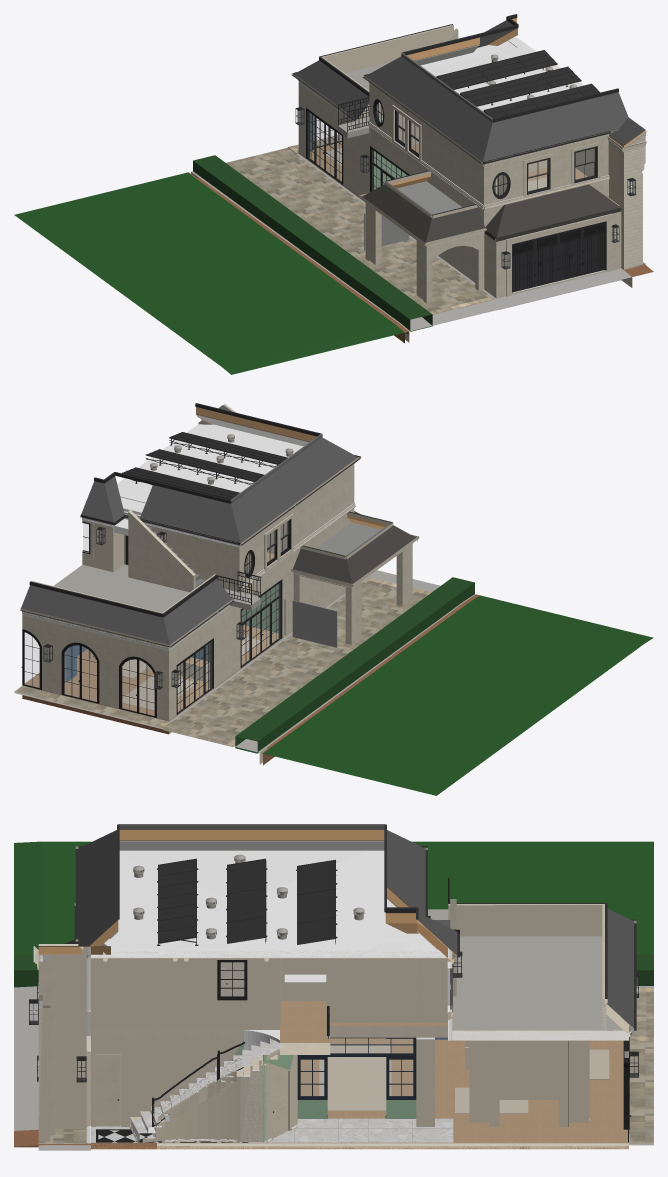
Rendered from elevation-west-1635263eb42b.glb.
3 views of the same model, one above another, from view 1: azimuth 30°, elevation 25°; view 2: azimuth 150°, elevation 25°; view 3: azimuth 270°, elevation 25° (orthographic). The views are drawn at different scales.
Parts seen in each view (by area): view 1: elevation-west-aee2d046b0172b1e, elevation-west-27d577fbd7f2ff4b, elevation-west-2d4e160723097ac3, elevation-west-25c3ff3929e46046, elevation-west-0cae3eb2f2d52fad, elevation-west-2f311b438f02a7c5, elevation-west-a9e726e5451ff895, elevation-west-8ae50a6395ceb8a4, elevation-west-312b4ac1be39223d, elevation-west-039192b0560cfac3, elevation-west-df3e1f21720b0c39, elevation-west-32021a86c784f0e0 (+27 smaller); view 2: elevation-west-aee2d046b0172b1e, elevation-west-27d577fbd7f2ff4b, elevation-west-2d4e160723097ac3, elevation-west-969b861f9850351e, elevation-west-0cae3eb2f2d52fad, elevation-west-d56ee2a9d54b1fc2, elevation-west-5febae1537653d02, elevation-west-312b4ac1be39223d, elevation-west-039192b0560cfac3, elevation-west-ded88bd99590d377, elevation-west-7511cdbc362aca5e, elevation-west-3b0077416469e01b (+29 smaller); view 3: elevation-west-aee2d046b0172b1e, elevation-west-d56ee2a9d54b1fc2, elevation-west-ded88bd99590d377, elevation-west-746250f96522f643, elevation-west-3b0077416469e01b, elevation-west-85f0fd939e0fcc78, elevation-west-7f59123d155b94ce, elevation-west-5e296beffb47d853, elevation-west-ed40dd465e6d599f, elevation-west-18b8f93424e26a44, elevation-west-2575515a05775d9e, elevation-west-871e2e831c6190fa (+52 smaller).
Part boxes in pixels (x1,y1,x2,y2): elevation-west-aee2d046b0172b1e: (14,172,653,374); elevation-west-27d577fbd7f2ff4b: (226,148,494,314); elevation-west-2d4e160723097ac3: (193,155,432,331); elevation-west-25c3ff3929e46046: (483,92,628,161); elevation-west-0cae3eb2f2d52fad: (365,56,492,161); elevation-west-2f311b438f02a7c5: (512,221,606,292); elevation-west-a9e726e5451ff895: (496,184,621,241); elevation-west-8ae50a6395ceb8a4: (191,153,632,342); elevation-west-312b4ac1be39223d: (369,83,484,204); elevation-west-039192b0560cfac3: (298,83,370,195); elevation-west-df3e1f21720b0c39: (484,136,608,205); elevation-west-32021a86c784f0e0: (322,25,453,72); elevation-west-aee2d046b0172b1e: (22,594,653,795); elevation-west-27d577fbd7f2ff4b: (163,577,431,746); elevation-west-2d4e160723097ac3: (235,577,474,753); elevation-west-969b861f9850351e: (22,616,165,719); elevation-west-0cae3eb2f2d52fad: (231,437,357,542); elevation-west-d56ee2a9d54b1fc2: (117,424,303,503); elevation-west-5febae1537653d02: (21,585,169,644); elevation-west-312b4ac1be39223d: (239,464,354,586); elevation-west-039192b0560cfac3: (166,606,240,720); elevation-west-ded88bd99590d377: (54,564,239,612); elevation-west-7511cdbc362aca5e: (128,510,195,592); elevation-west-3b0077416469e01b: (22,636,273,721); elevation-west-aee2d046b0172b1e: (14,841,653,1149); elevation-west-d56ee2a9d54b1fc2: (104,850,417,949); elevation-west-ded88bd99590d377: (452,936,623,1030); elevation-west-746250f96522f643: (91,958,280,1027); elevation-west-3b0077416469e01b: (157,1038,628,1143); elevation-west-85f0fd939e0fcc78: (91,1039,243,1126); elevation-west-7f59123d155b94ce: (330,958,419,1022); elevation-west-5e296beffb47d853: (55,955,86,1129); elevation-west-ed40dd465e6d599f: (489,1040,567,1126); elevation-west-18b8f93424e26a44: (448,904,604,936); elevation-west-2575515a05775d9e: (91,958,330,1054); elevation-west-871e2e831c6190fa: (319,1045,391,1110).
Bounding box in the file's own units: 22.2 × 8.45 × 19.78.
Materials: 70 (19 with a texture image).
